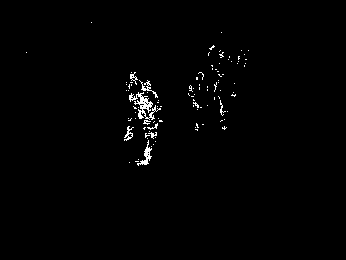person: (130, 79, 162, 167), (123, 69, 147, 143)
